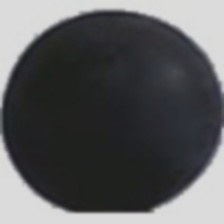grapes: (29, 2, 202, 182)
